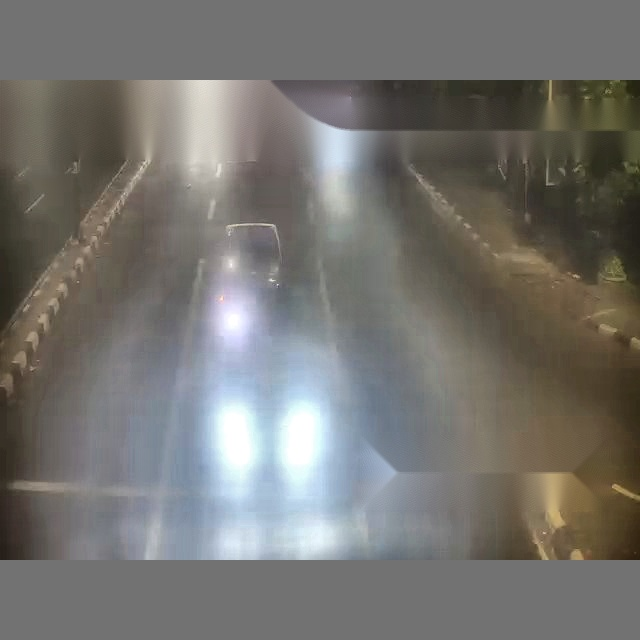Mobil: (596, 251, 627, 284)
